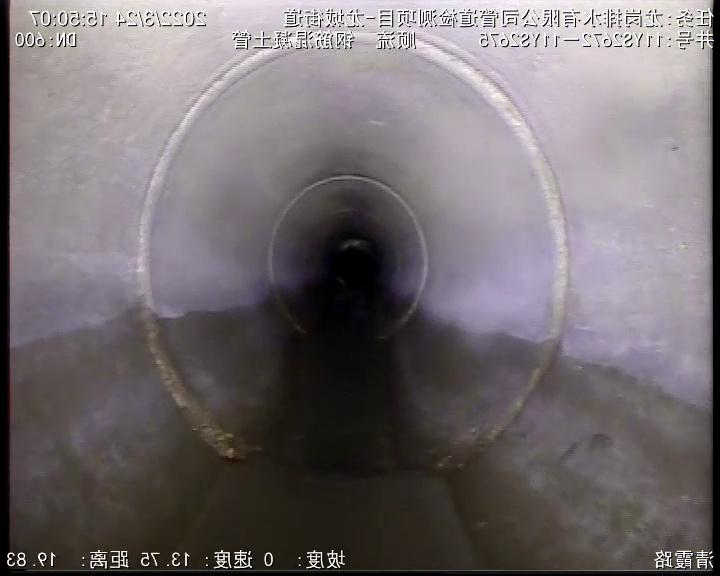CKTJ: (417, 38, 569, 446), (137, 50, 281, 458), (268, 175, 429, 322)
